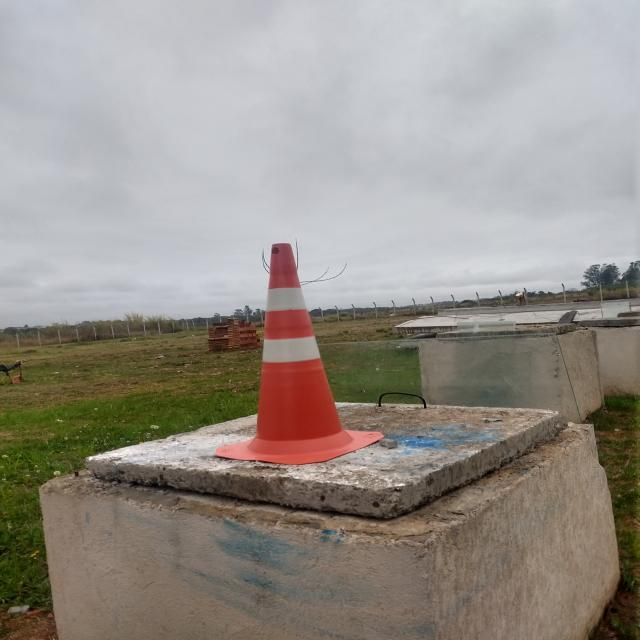Cone: (204, 235, 375, 468)
